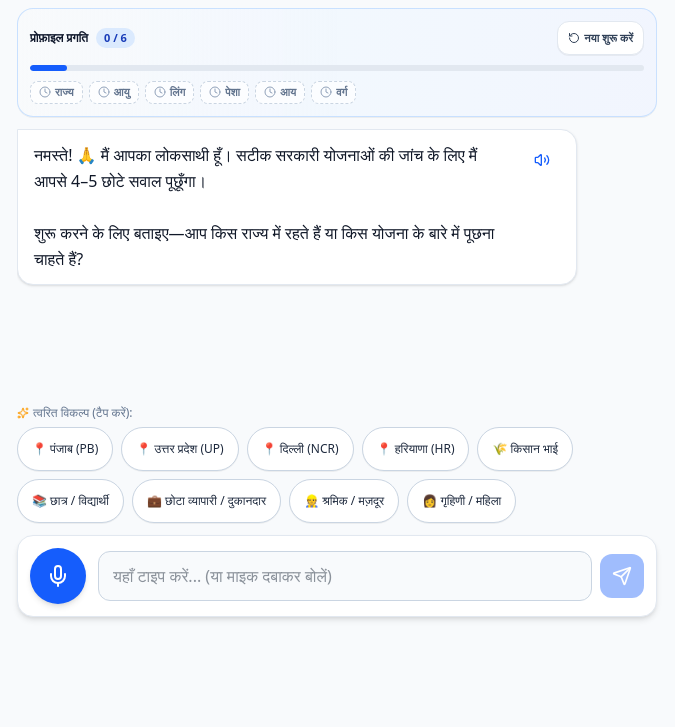
VoiceInterview Component › handles HTTP 500 from /api/voice-process gracefully via local deterministic intake without exposing status codes
Type "दिल्ली (NCT)" into the field with placeholder "यहाँ टाइप करें... (या माइक दबाकर बोलें)" at (345, 576), box [98,550,592,600]
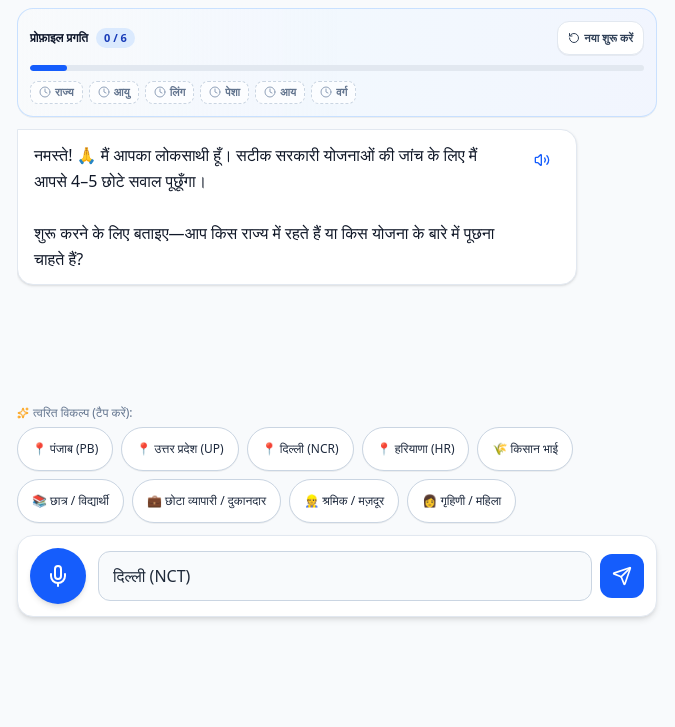
Submit the form with placeholder "यहाँ टाइप करें", box [98,550,644,600]
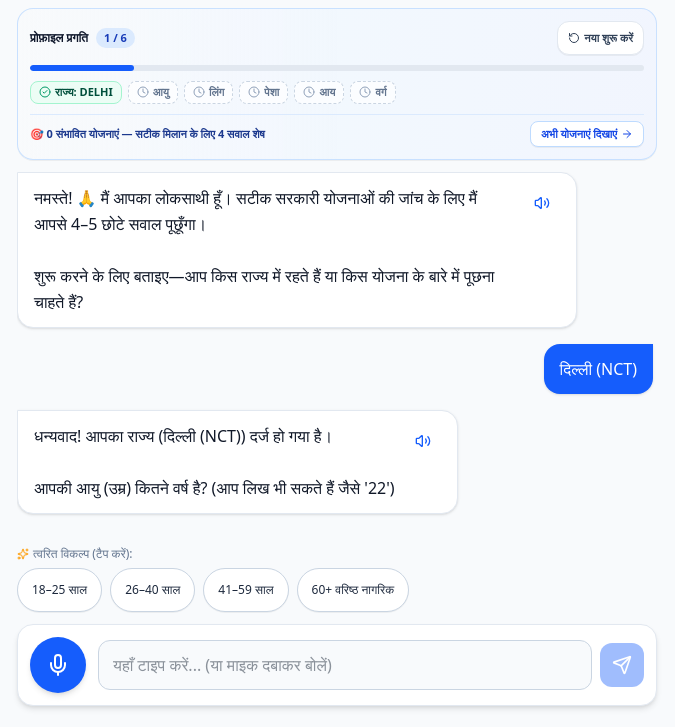
Expected: the text "राज्य: DELHI" is shown, [55,84,113,100]
